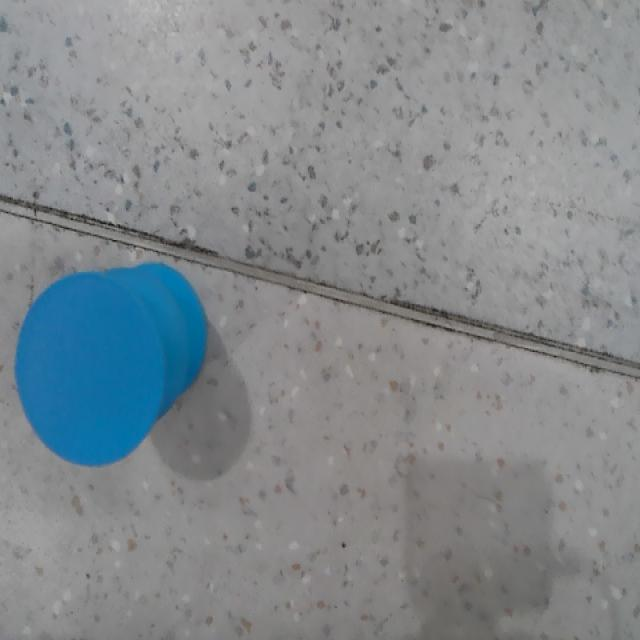b: (16, 273, 163, 469)
